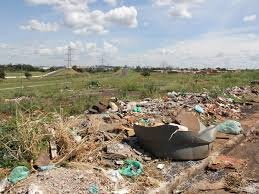rubble: (126, 90, 259, 128)
